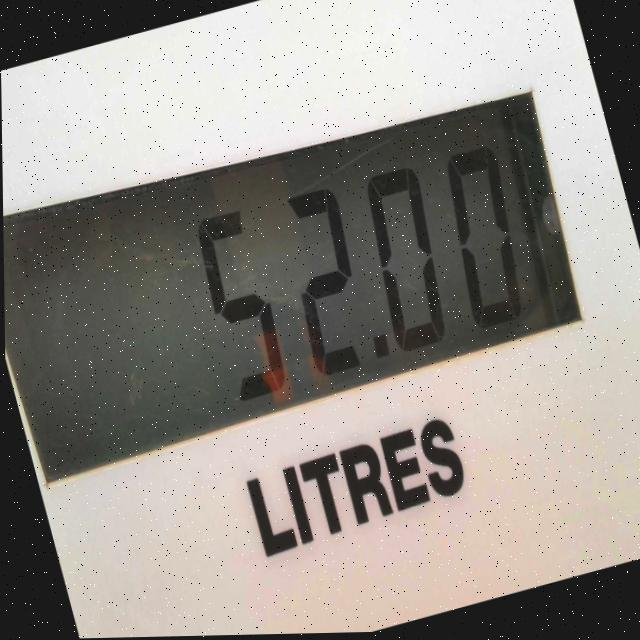.: (353, 320, 403, 380)
0: (420, 128, 548, 346), (346, 151, 465, 364)
2: (253, 174, 383, 388)
5: (179, 192, 308, 434)
